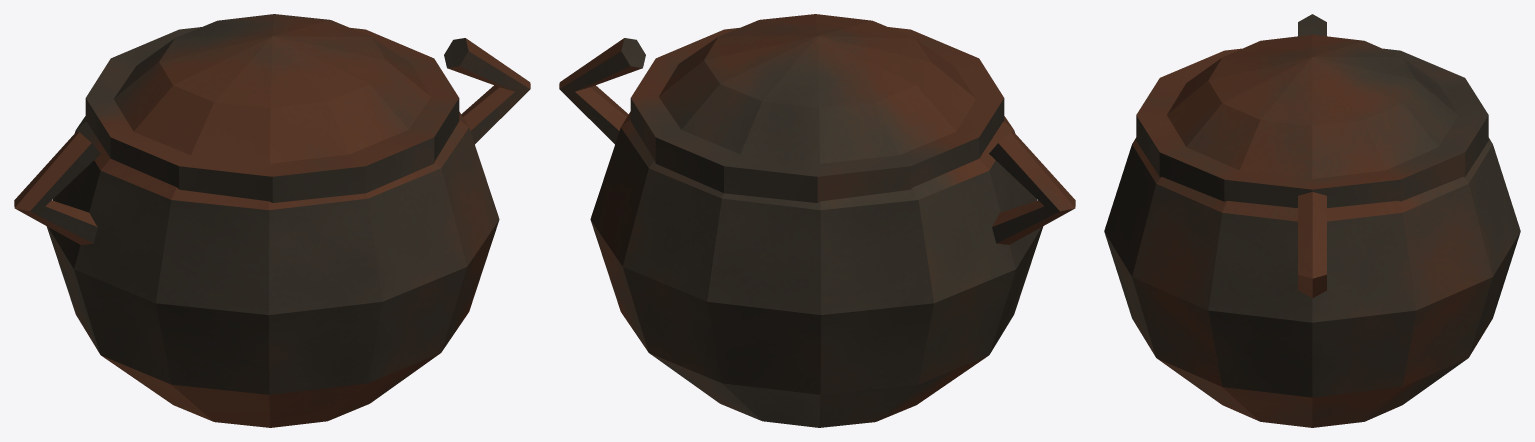
Rendered from Cauldron.glb.
3 views of the same model, side by side, from view 1: azimuth 30°, elevation 25°; view 2: azimuth 150°, elevation 25°; view 3: azimuth 270°, elevation 25° (orthographic). The views are drawn at different scales.
Parts seen in each view (by area): view 1: Cauldron; view 2: Cauldron; view 3: Cauldron.
Part boxes in pixels (box(x1,y1,x2,y2)): Cauldron: box(14, 14, 530, 427); Cauldron: box(559, 14, 1075, 427); Cauldron: box(1104, 14, 1520, 427).
Size of the model in its own units: 0.7019 by 0.48 by 0.52.
Materials: 2 (2 with a texture image).
